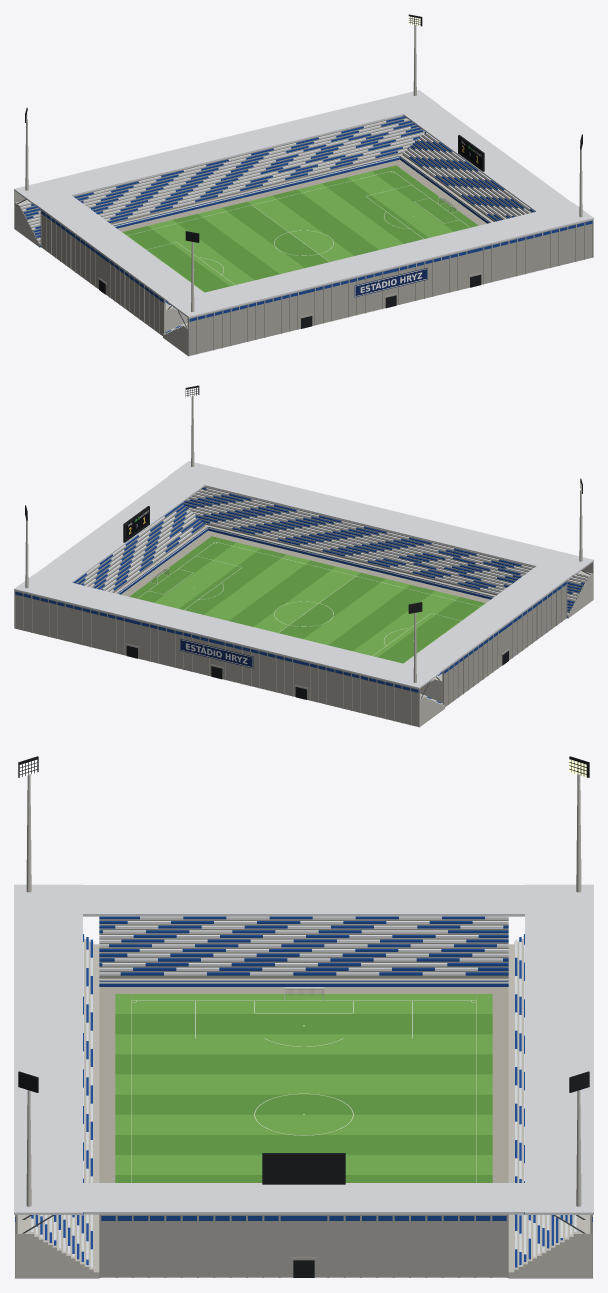
Rendered from estadio-futebol.glb.
The picture shows the model from 3 angles, top to bottom: view 1: azimuth 30°, elevation 25°; view 2: azimuth 150°, elevation 25°; view 3: azimuth 270°, elevation 25°; orthographic projection. The views are drawn at different scales.
Visible parts, largest first — view 1: Cobertura, Fachada, GramadoEscuro, Espelhos, GramadoClaro, AssentosBrancos, AssentosAzuis, Degraus, Estrutura, Pista, Letreiro, Torres (+2 smaller); view 2: Cobertura, Fachada, GramadoEscuro, Espelhos, GramadoClaro, AssentosBrancos, AssentosAzuis, Degraus, Estrutura, Pista, Letreiro, Torres (+2 smaller); view 3: Cobertura, GramadoClaro, GramadoEscuro, Fachada, Degraus, Espelhos, AssentosBrancos, AssentosAzuis, Pista, Estrutura, Torres, Placar (+1 smaller).
Part boxes in pixels (bbox=[...]): Cobertura: bbox=[14, 90, 593, 317]; Fachada: bbox=[14, 191, 592, 355]; GramadoEscuro: bbox=[123, 165, 478, 292]; Espelhos: bbox=[20, 115, 531, 247]; GramadoClaro: bbox=[122, 171, 453, 292]; AssentosBrancos: bbox=[19, 118, 530, 330]; AssentosAzuis: bbox=[23, 116, 534, 332]; Degraus: bbox=[14, 115, 532, 355]; Estrutura: bbox=[17, 199, 593, 356]; Pista: bbox=[117, 159, 486, 231]; Letreiro: bbox=[354, 136, 482, 297]; Torres: bbox=[25, 14, 582, 311]; Cobertura: bbox=[14, 461, 593, 688]; Fachada: bbox=[15, 562, 593, 726]; GramadoEscuro: bbox=[129, 536, 484, 663]; Espelhos: bbox=[76, 486, 587, 618]; GramadoClaro: bbox=[154, 542, 485, 663]; AssentosBrancos: bbox=[73, 488, 588, 703]; AssentosAzuis: bbox=[73, 487, 584, 703]; Degraus: bbox=[75, 486, 593, 726]; Estrutura: bbox=[14, 570, 590, 727]; Pista: bbox=[121, 530, 490, 602]; Letreiro: bbox=[125, 507, 253, 668]; Torres: bbox=[25, 385, 582, 682]; Cobertura: bbox=[14, 884, 593, 1214]; GramadoClaro: bbox=[115, 994, 492, 1174]; GramadoEscuro: bbox=[115, 1014, 492, 1182]; Fachada: bbox=[15, 1214, 592, 1277]; Degraus: bbox=[15, 919, 592, 1278]; Espelhos: bbox=[99, 919, 508, 986]; AssentosBrancos: bbox=[31, 916, 576, 1267]; AssentosAzuis: bbox=[31, 916, 572, 1267]; Pista: bbox=[99, 987, 508, 1182]; Estrutura: bbox=[15, 1214, 592, 1278]; Torres: bbox=[18, 756, 589, 1206]; Placar: bbox=[262, 1153, 345, 1184].
Size of the model in its own units: 144 by 40.6 by 108.
26 materials, 4 textured.
